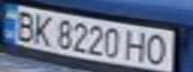0: (103, 25, 124, 60)
2: (69, 19, 90, 55), (84, 23, 106, 57)
8: (51, 17, 75, 51)
B: (9, 8, 39, 43)
H: (124, 28, 151, 63)
K: (30, 11, 57, 46)
O: (142, 32, 172, 65)
